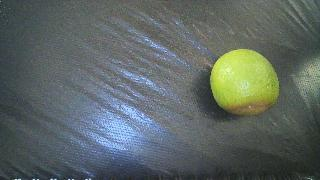DESECHO: (210, 49, 279, 115)
